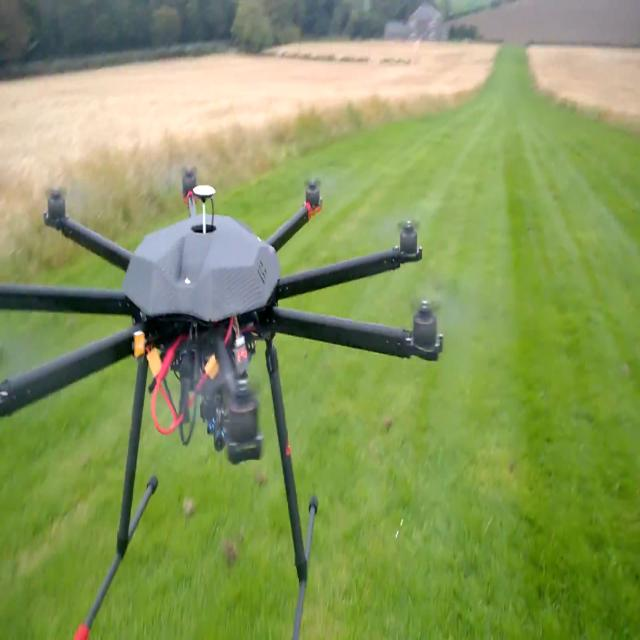drone: (3, 149, 481, 612)
